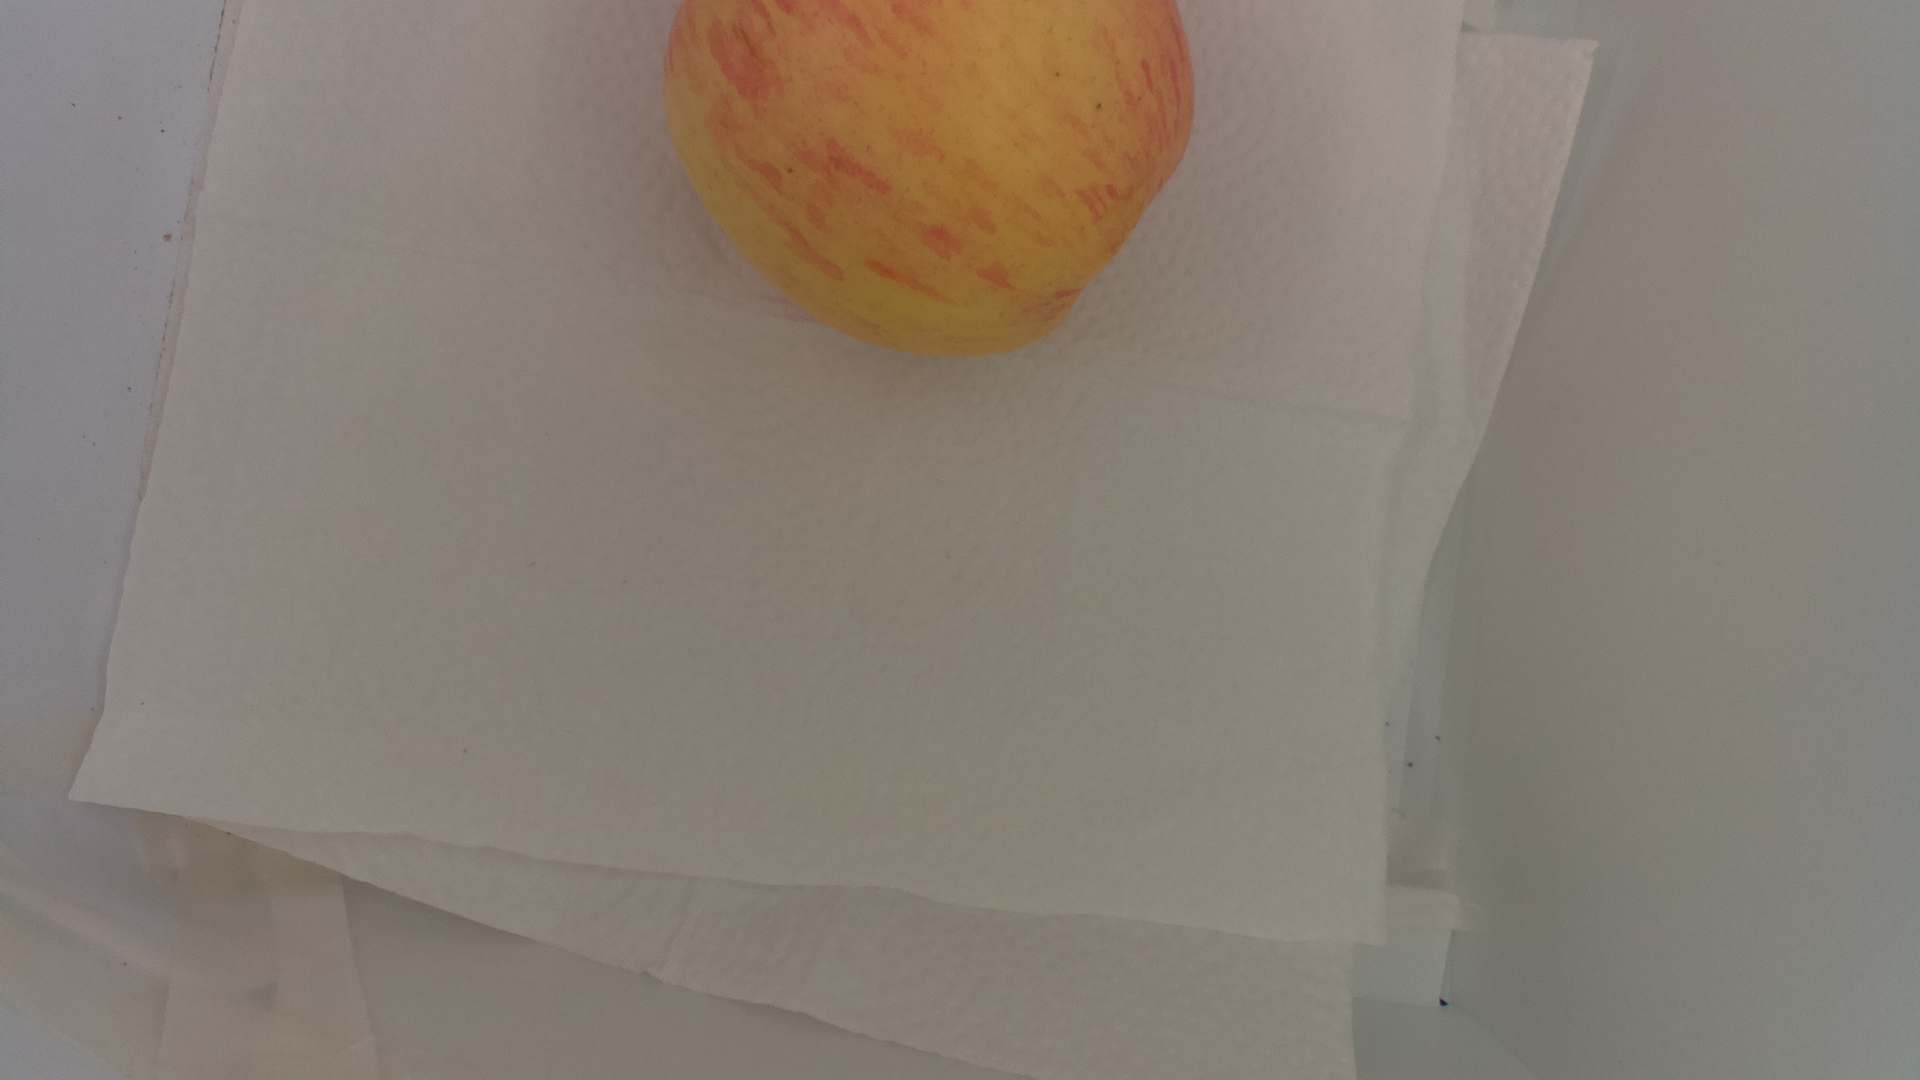fruit: (659, 1, 1203, 357)
